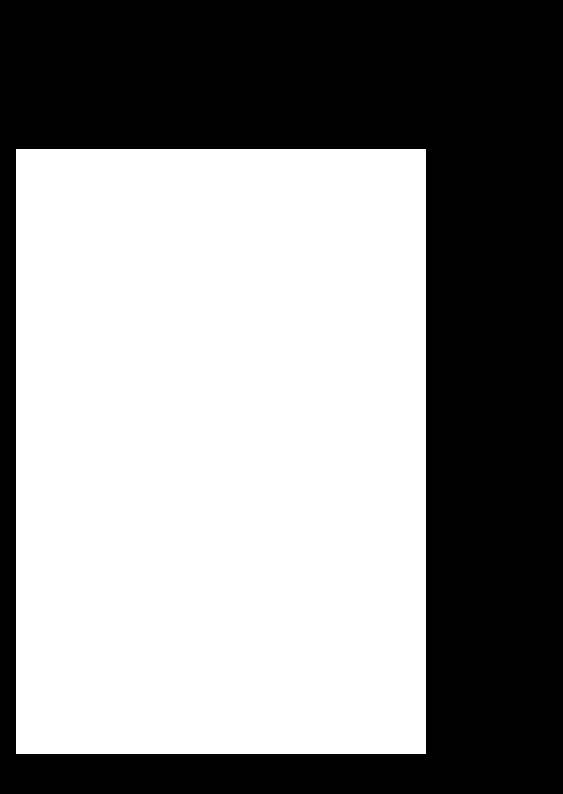table: (16, 149, 425, 753)
